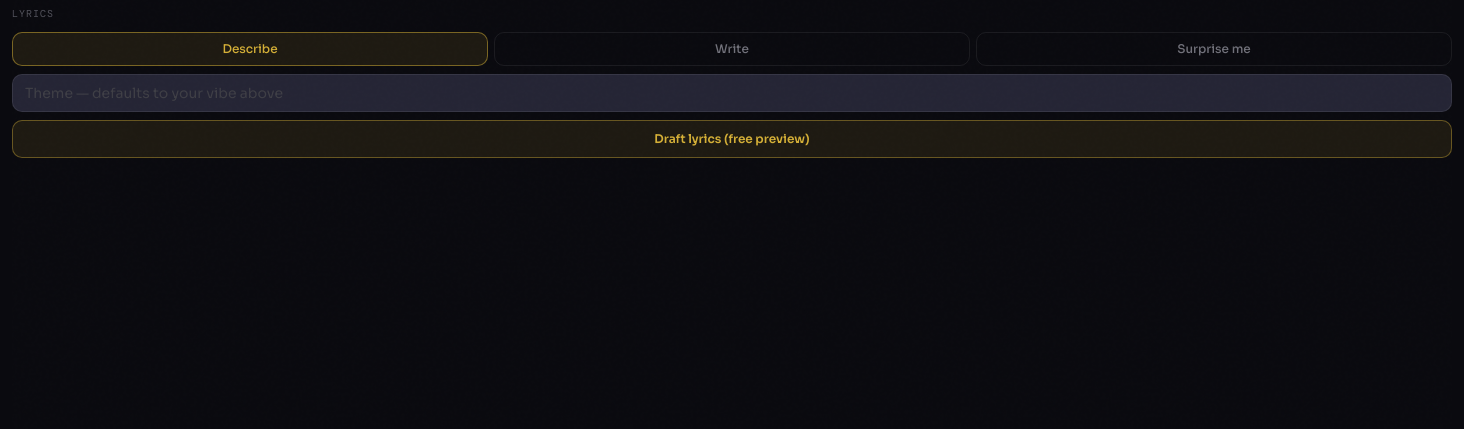
Test: LyricsStage › surfaces the English-fallback disclosure from the draft
Click the button "Draft lyrics (free preview)" at coordinates (732, 139), box top-left (12, 120), bottom-right (1452, 158)
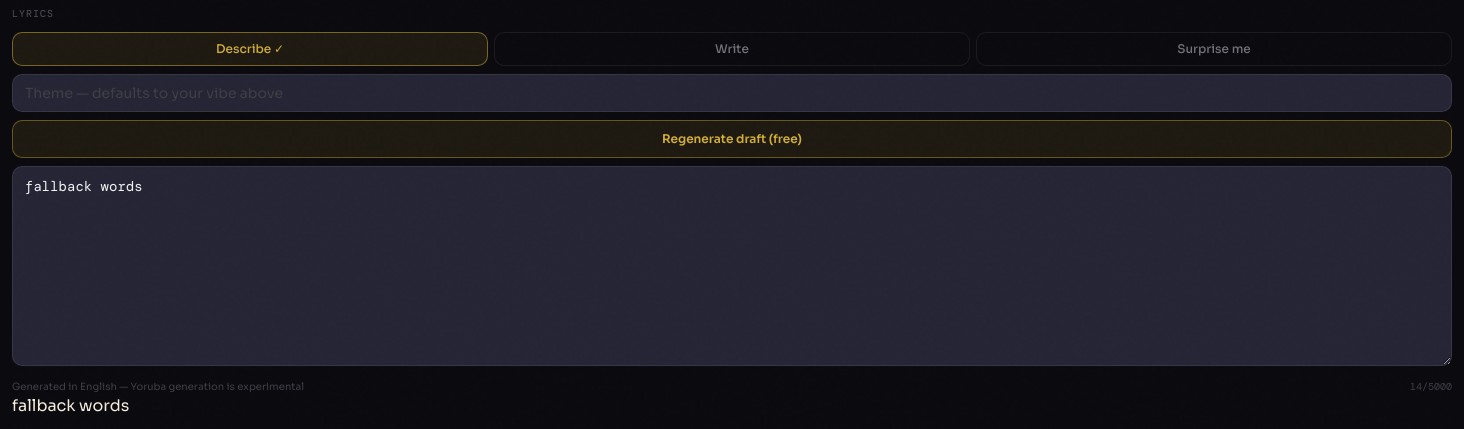
Check: the text box showing "fallback words" is shown, box top-left (12, 166), bottom-right (1452, 366)
Check: the text "Generated in English — Yoruba generation is experimental" is shown, box top-left (12, 379), bottom-right (304, 394)
